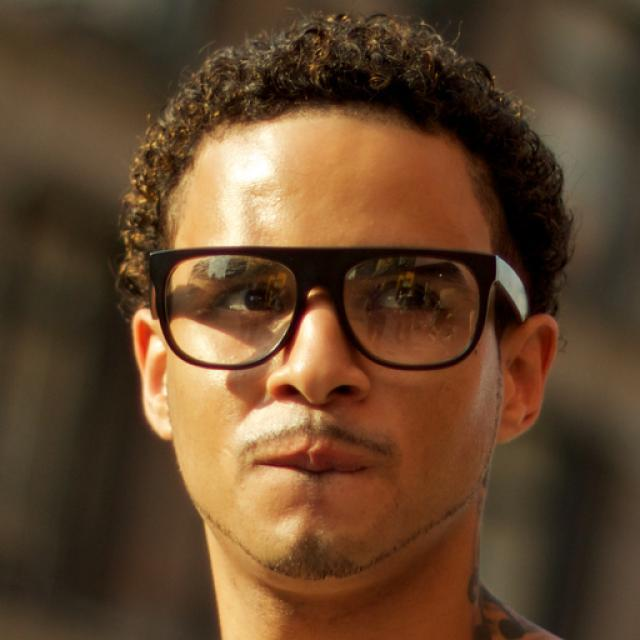neutral: (165, 115, 503, 583)
